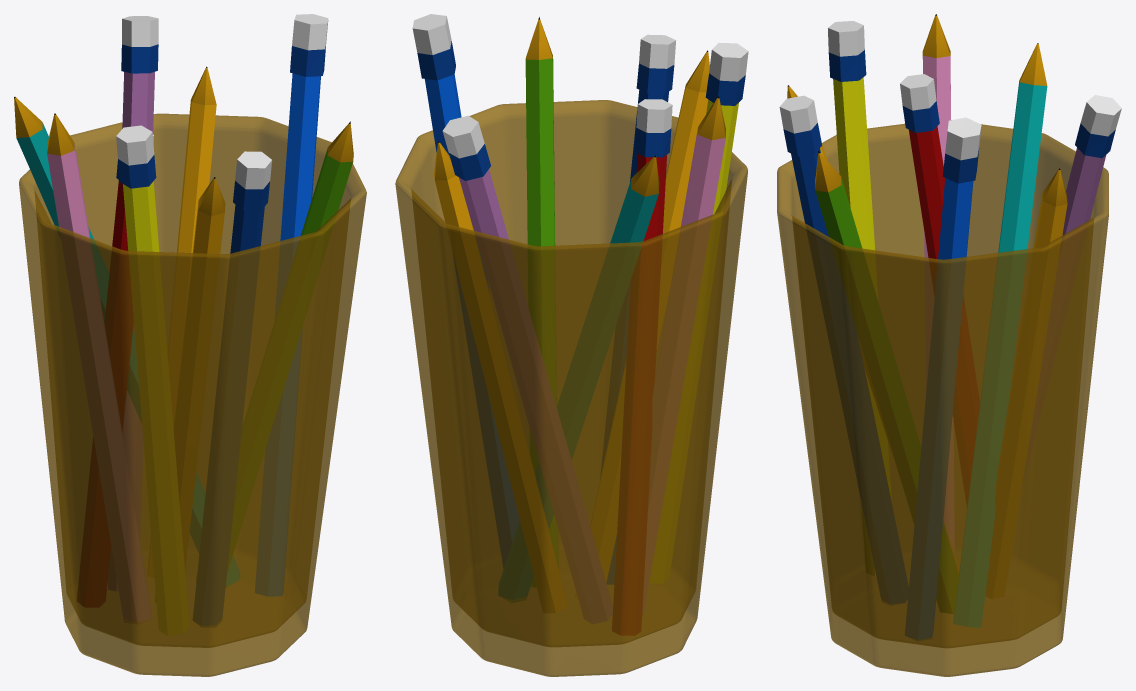
File: mishanya_privet.fbx
The picture shows the model from 3 angles, left to right: view 1: azimuth 30°, elevation 25°; view 2: azimuth 150°, elevation 25°; view 3: azimuth 270°, elevation 25°; orthographic projection. The views are drawn at different scales.
Visible parts, largest first — view 1: pCylinder1, polySurface4, pCylinder2, pCylinder4, pCylinder10, pCylinder11, pCylinder3; view 2: pCylinder1, polySurface4, pCylinder11, pCylinder2, pCylinder3, pCylinder4, pCylinder10; view 3: pCylinder1, polySurface4, pCylinder3, pCylinder4, pCylinder11, pCylinder2.
Boxes of the visible parts, box(x1,y1,x2,y2) form: pCylinder1: box(19, 113, 366, 676); polySurface4: box(77, 14, 328, 635); pCylinder2: box(47, 113, 150, 621); pCylinder4: box(228, 121, 353, 568); pCylinder10: box(155, 177, 225, 601); pCylinder11: box(148, 66, 216, 576); pCylinder3: box(14, 97, 239, 586); pCylinder1: box(395, 100, 747, 676); polySurface4: box(412, 14, 748, 635); pCylinder11: box(434, 141, 566, 612); pCylinder2: box(643, 96, 725, 612); pCylinder3: box(499, 155, 659, 599); pCylinder4: box(525, 17, 557, 586); pCylinder10: box(576, 50, 709, 598); pCylinder1: box(777, 120, 1108, 676); polySurface4: box(779, 21, 1121, 639); pCylinder3: box(954, 43, 1047, 626); pCylinder4: box(815, 151, 958, 613); pCylinder11: box(986, 168, 1067, 598); pCylinder2: box(922, 14, 954, 552).
Bounding box in the file's own units: 3.65 × 6.62 × 3.63.
